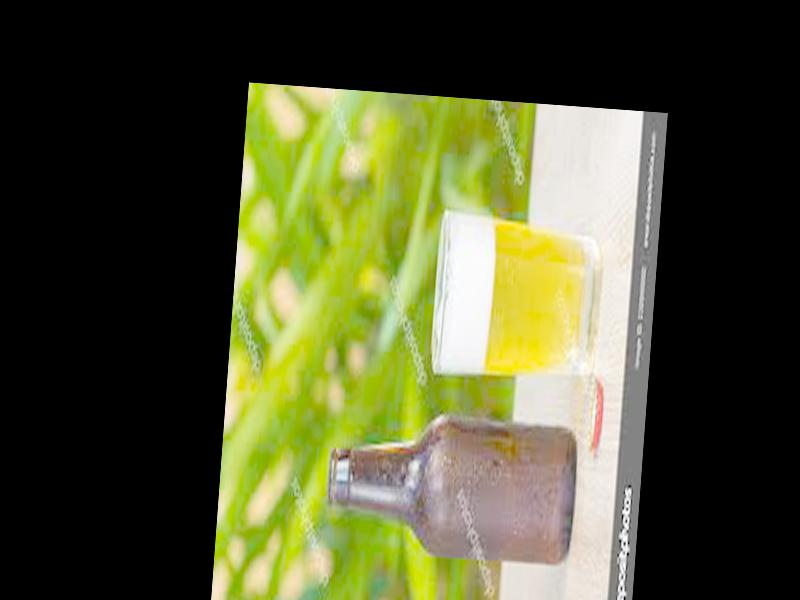Beer: (325, 410, 581, 559)
